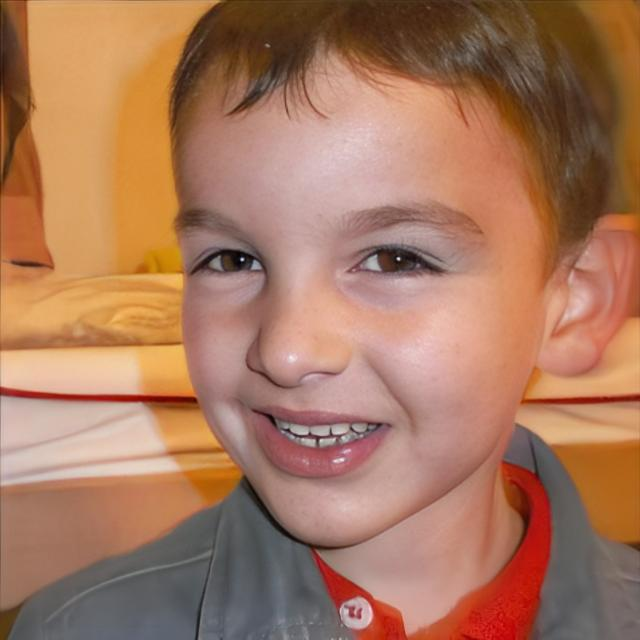happy: (178, 79, 544, 546)
